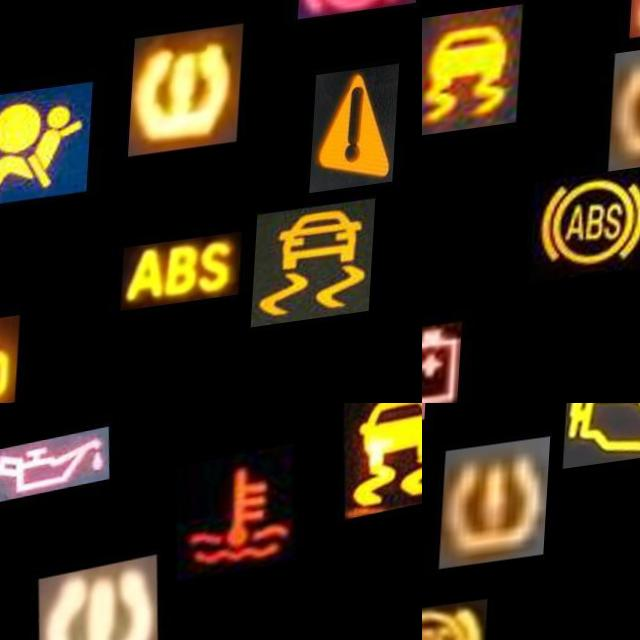Central Warning lamp: (313, 82, 402, 209)
Engine cooling system: (176, 452, 308, 592)
